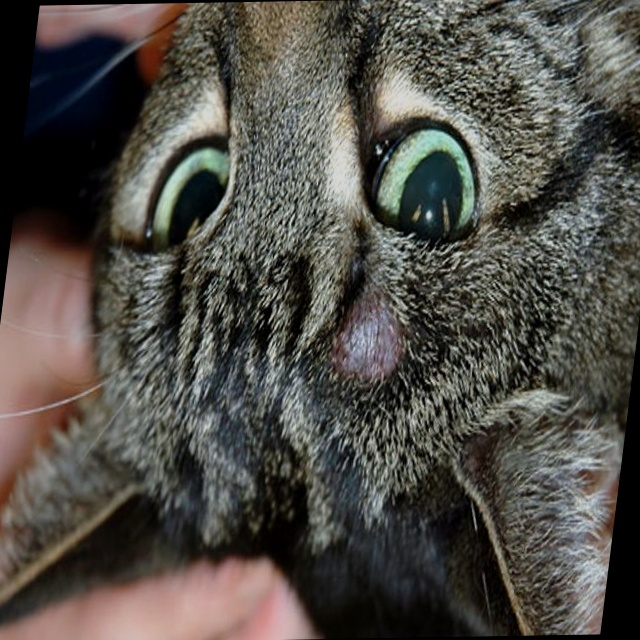lump_and_bump: (330, 295, 410, 384)
